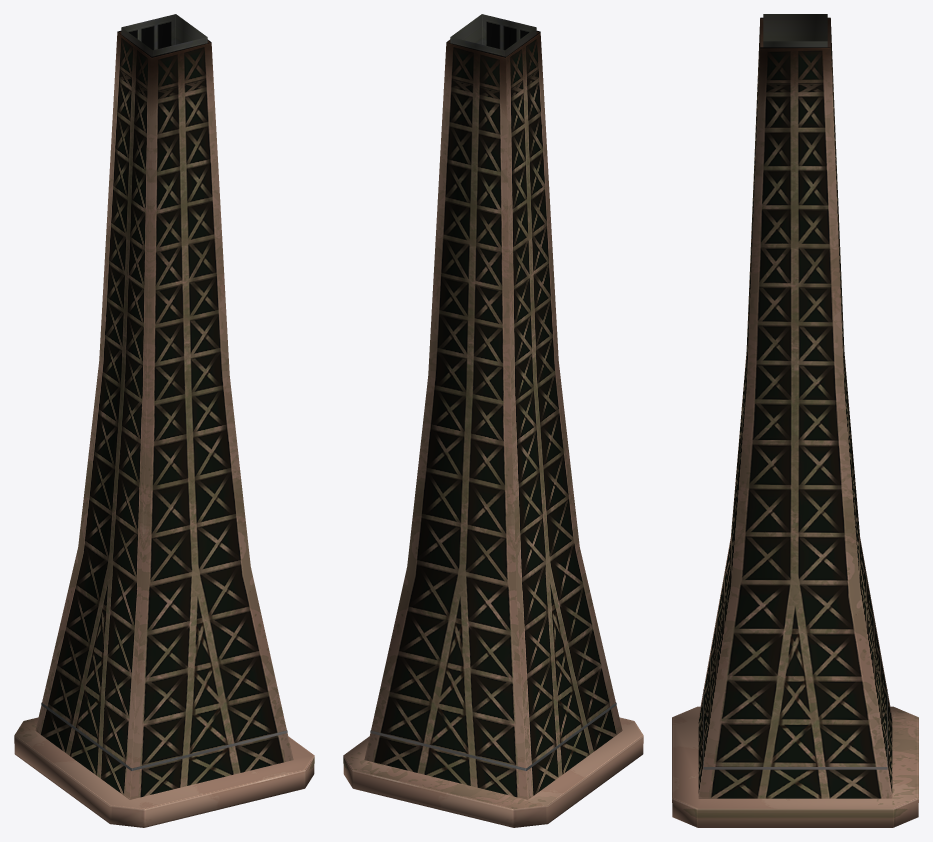
Rendered from eiffel2.glb.
3 views of the same model, side by side, from view 1: azimuth 30°, elevation 25°; view 2: azimuth 150°, elevation 25°; view 3: azimuth 270°, elevation 25° (orthographic). The views are drawn at different scales.
Visible parts, largest first — view 1: Box03; view 2: Box03; view 3: Box03.
Boxes of the visible parts, x1=… form: Box03: x1=14, y1=14, x2=314, y2=827; Box03: x1=343, y1=14, x2=643, y2=827; Box03: x1=672, y1=14, x2=918, y2=827.
Size of the model in its own units: 47.35 by 162 by 48.29.
Materials: 1 (1 with a texture image).
